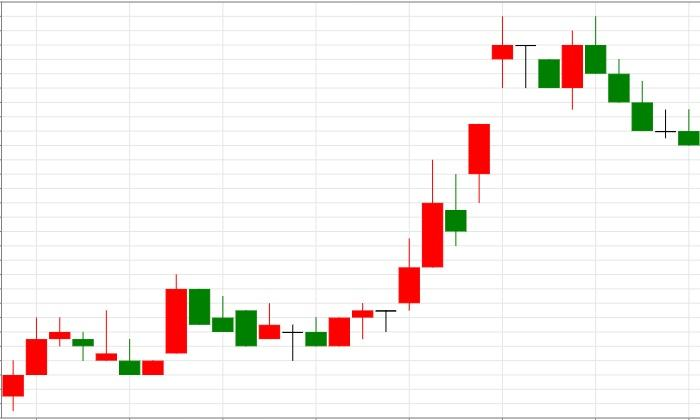three_black_crows_fall: (538, 15, 653, 132)
